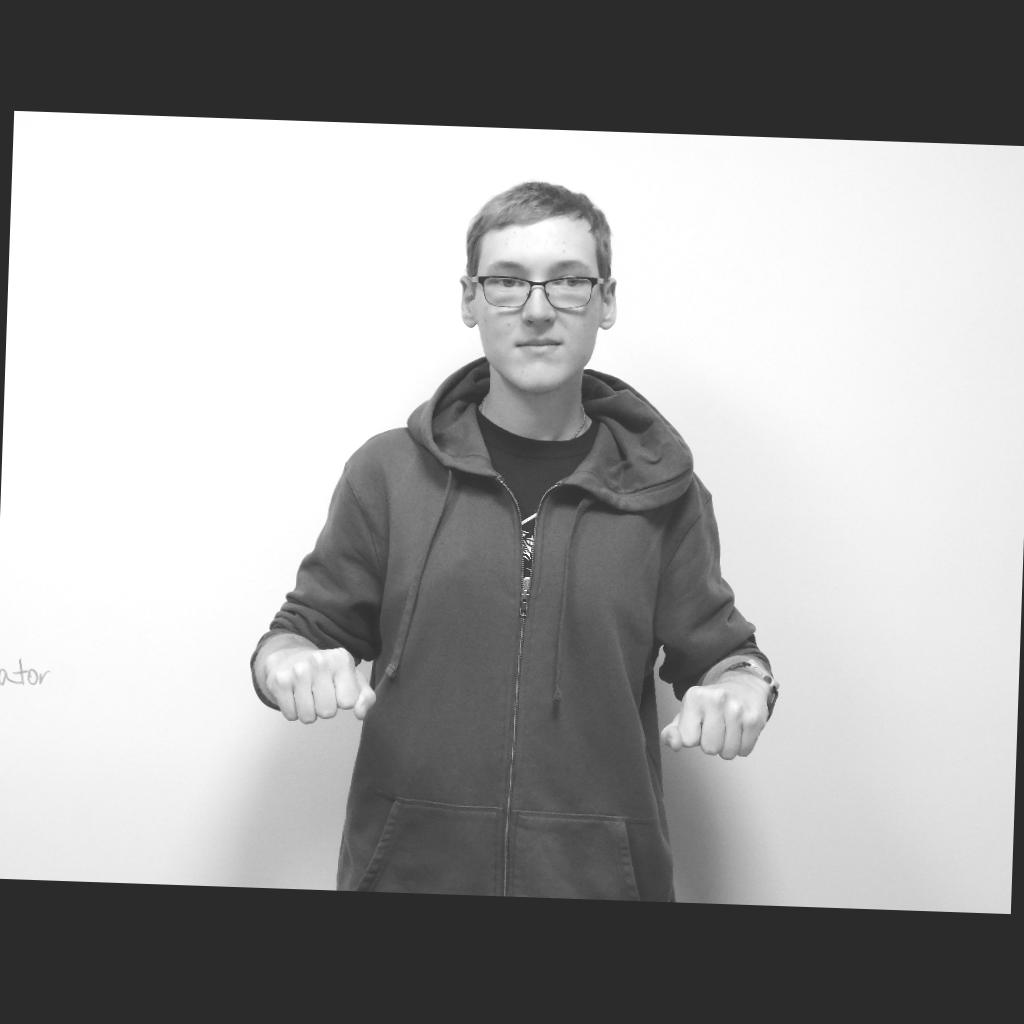can: (264, 644, 770, 760)
